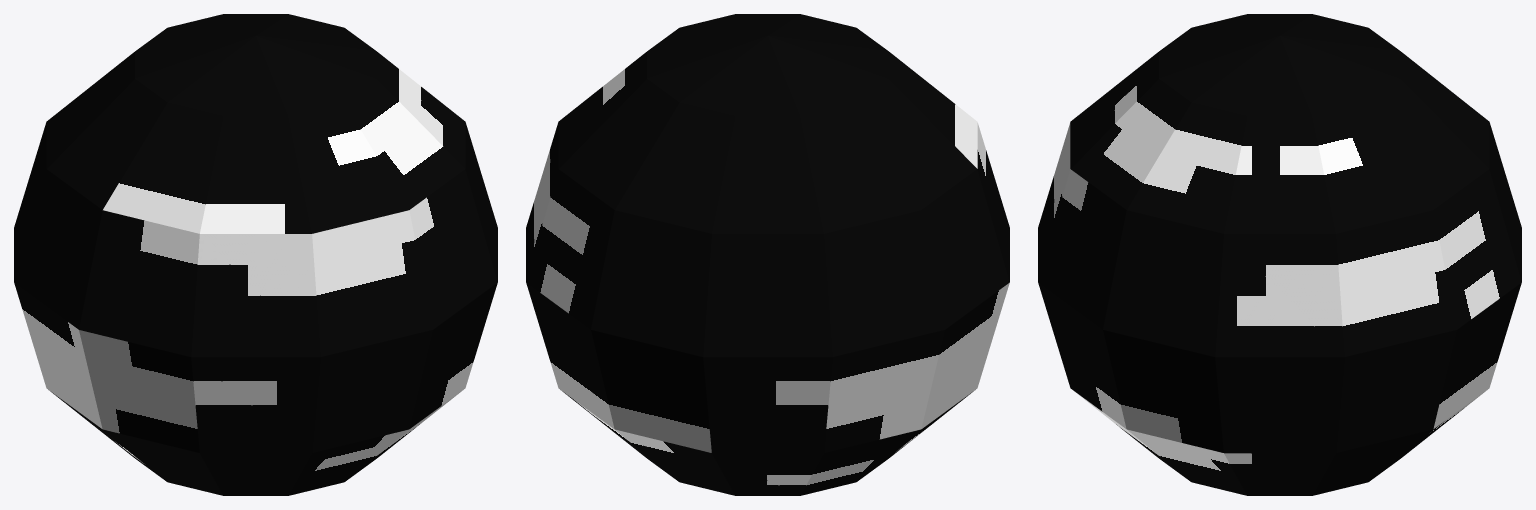
File: EarthPlanet_Collectable.fbx
The picture shows the model from 3 angles, left to right: view 1: azimuth 30°, elevation 25°; view 2: azimuth 150°, elevation 25°; view 3: azimuth 270°, elevation 25°; orthographic projection.
Visible parts, largest first — view 1: sphere_1; view 2: sphere_1; view 3: sphere_1.
Boxes of the visible parts, x1=… form: sphere_1: x1=14, y1=14, x2=497, y2=495; sphere_1: x1=526, y1=14, x2=1009, y2=495; sphere_1: x1=1038, y1=14, x2=1521, y2=495.
Bounding box in the file's own units: 106 × 106 × 106.
Materials: 2 (2 with a texture image).
